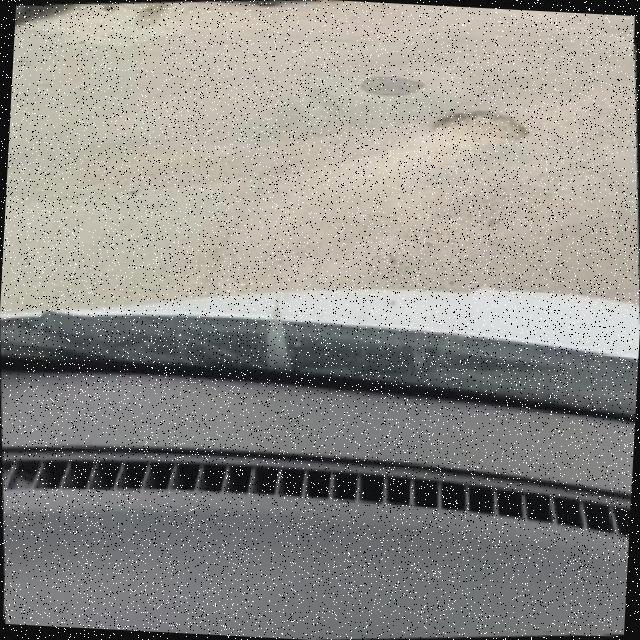Pothole: (426, 110, 528, 150)
